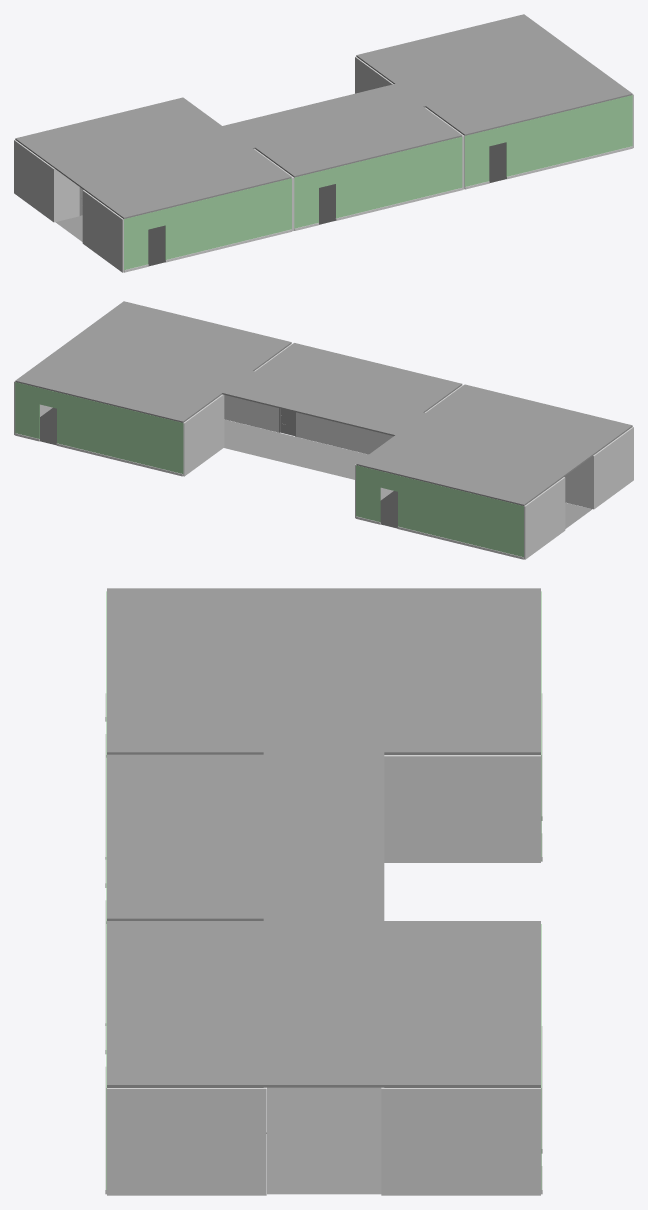
Rendered from Corridor.fbx.
The picture shows the model from 3 angles, top to bottom: view 1: azimuth 30°, elevation 25°; view 2: azimuth 150°, elevation 25°; view 3: azimuth 270°, elevation 25°; orthographic projection. The views are drawn at different scales.
Parts seen in each view (by area): view 1: Six, Five, Four, CorridorCeiling, Three, Seven, CorridorFloor; view 2: Three, Seven, CorridorCeiling, Six, Five, Four, CorridorFloor; view 3: CorridorCeiling, Four, Seven, Three, Six, Five, CorridorFloor.
Part boxes in pixels (x1,y1,x2,y2): Six: [82, 148, 292, 272]; Five: [254, 106, 463, 230]; Four: [425, 65, 633, 189]; CorridorCeiling: [54, 43, 592, 189]; Three: [14, 97, 221, 222]; Seven: [355, 14, 562, 93]; CorridorFloor: [55, 215, 82, 241]; Three: [355, 435, 565, 559]; Seven: [14, 352, 224, 476]; CorridorCeiling: [55, 330, 593, 476]; Six: [426, 384, 633, 509]; Five: [253, 343, 462, 454]; Four: [85, 301, 292, 426]; CorridorFloor: [224, 419, 591, 528]; CorridorCeiling: [263, 588, 384, 1087]; Four: [105, 921, 266, 1195]; Seven: [381, 921, 542, 1195]; Three: [384, 588, 542, 862]; Six: [105, 588, 263, 859]; Five: [105, 754, 263, 1025]; CorridorFloor: [267, 1087, 381, 1194].
Bounding box in the file's own units: 30.16 × 3.08 × 11.16.
